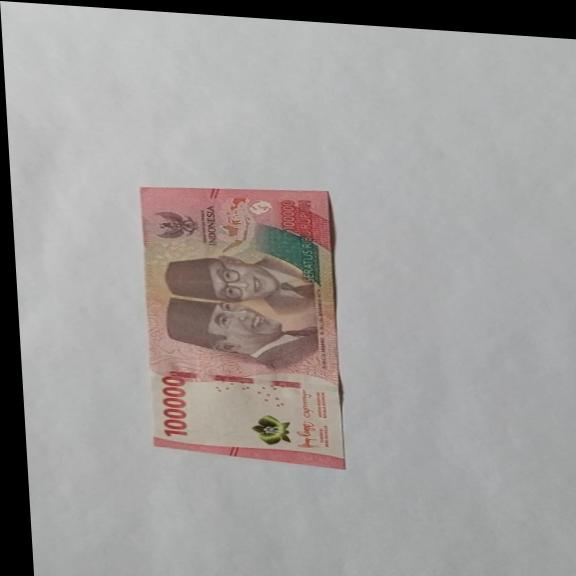Kertas: (134, 176, 349, 469), (157, 374, 190, 438)
